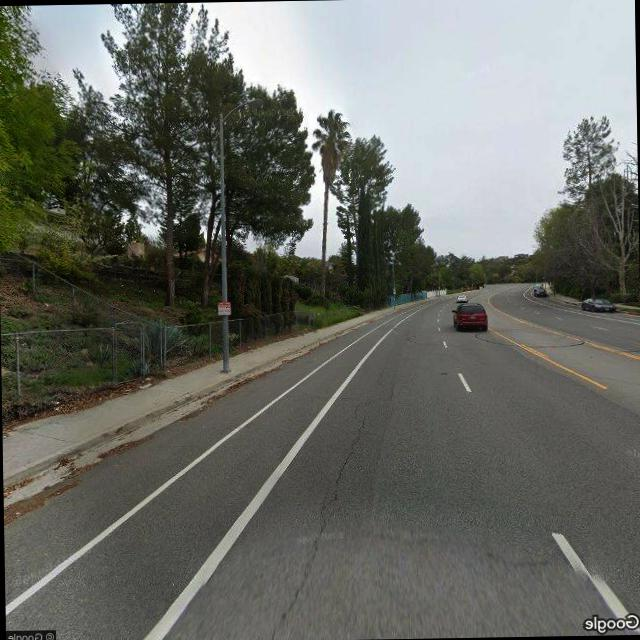pothole: (260, 411, 372, 638), (312, 407, 370, 530)
